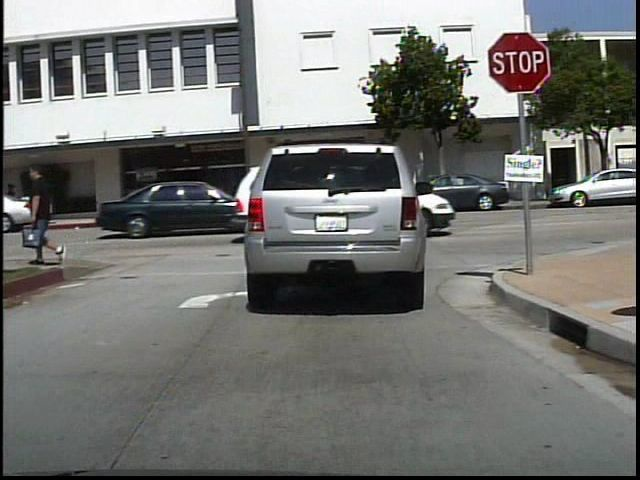person: (22, 161, 82, 268), (36, 179, 60, 226), (4, 177, 28, 222)
